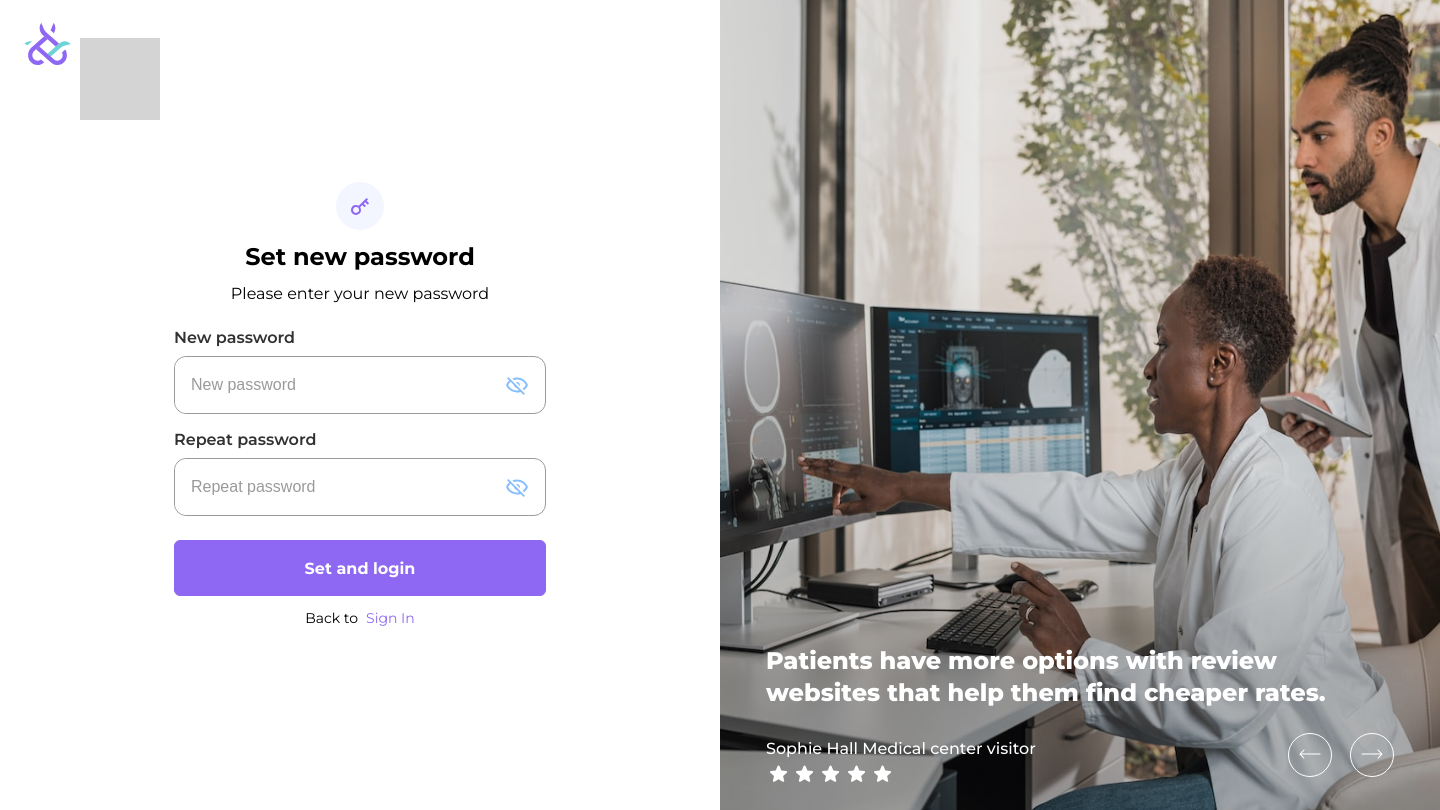
Test: SetNewPasswordPage › doest NOT submit form when password is too short
The image size is (1440, 810).
In the password field with placeholder "New password": (336, 385) [175,357,497,413], type "Aa1!"
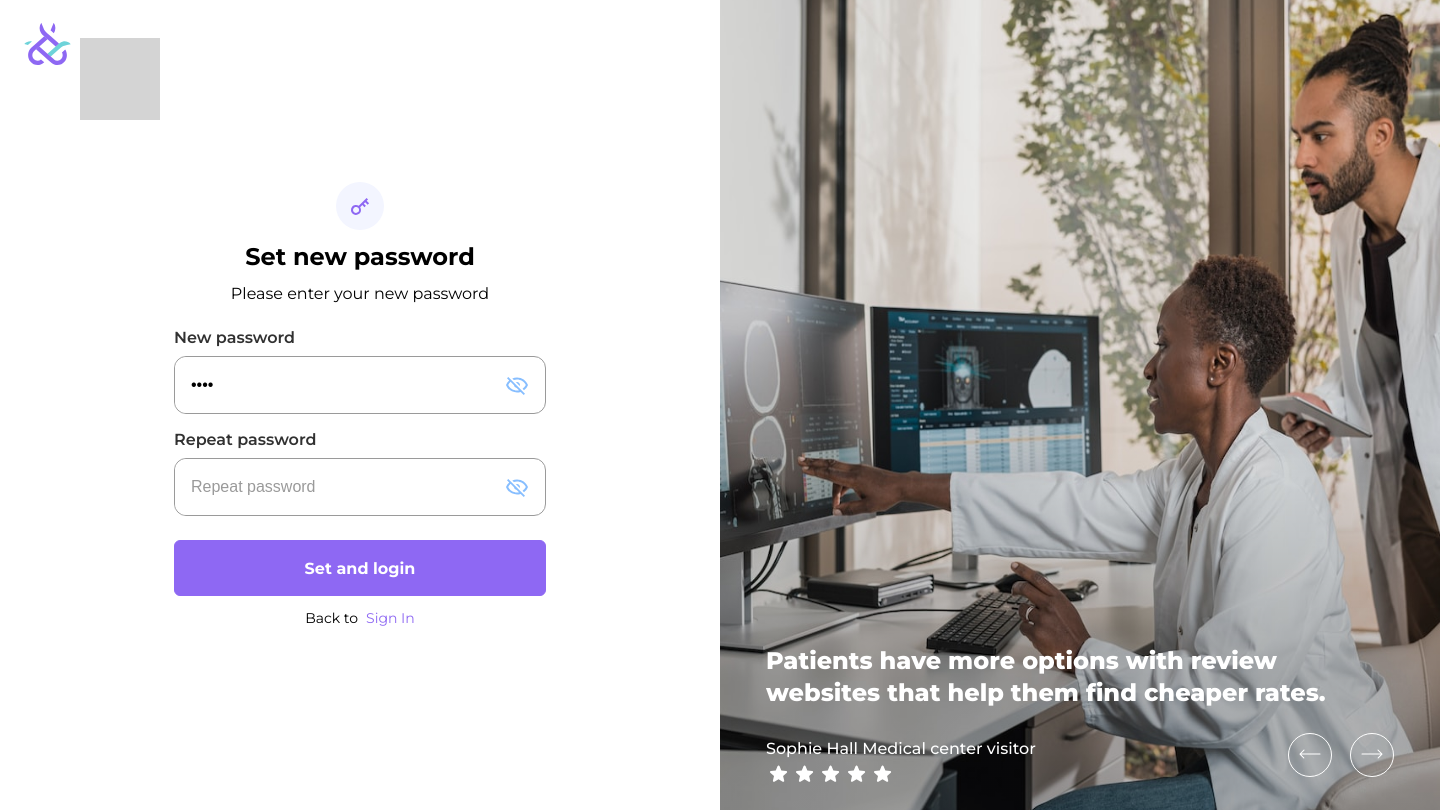
In the password field with placeholder "Repeat password": (336, 487) [175,459,497,515], type "Aa1!"
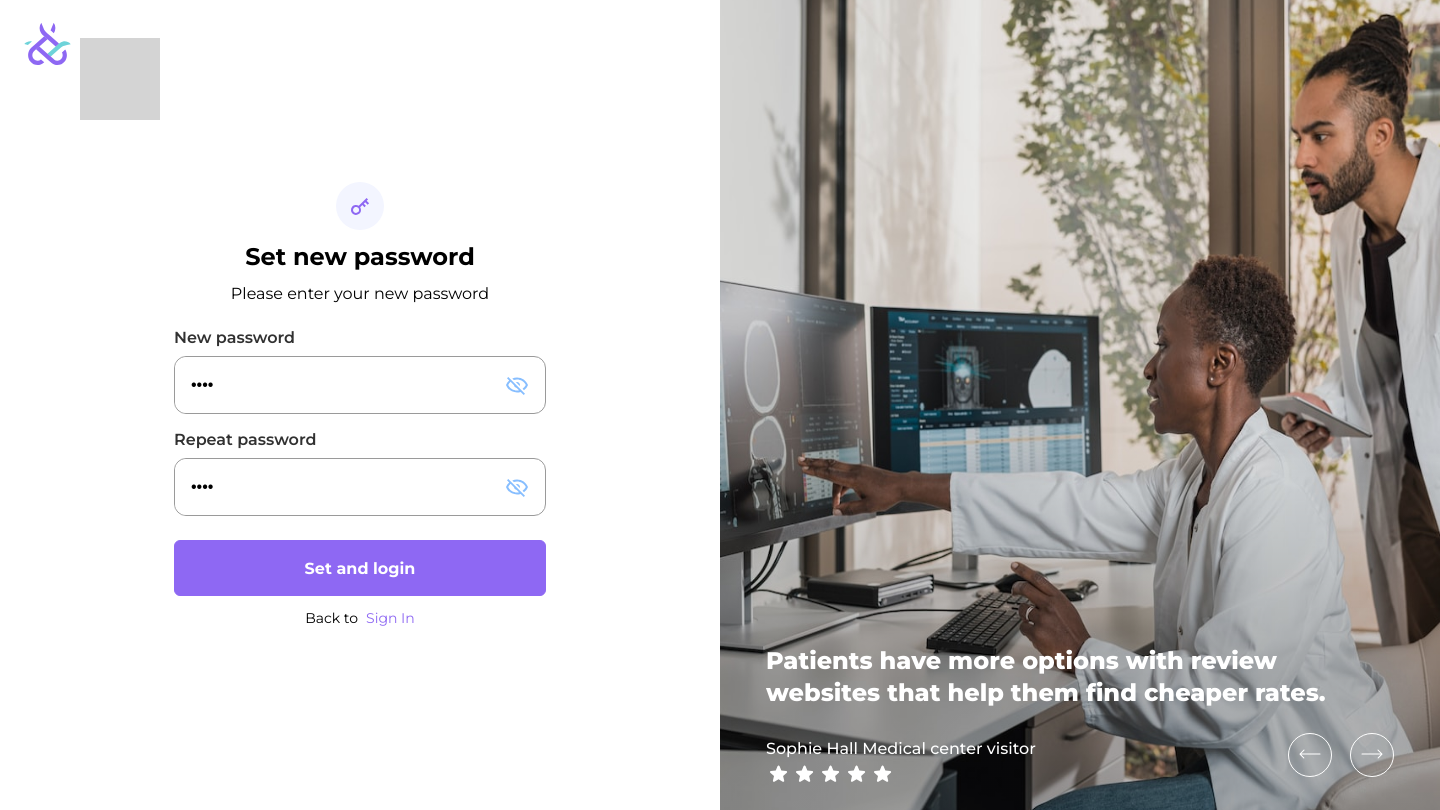
Click the button "Set and login": (360, 568) [174,540,546,596]
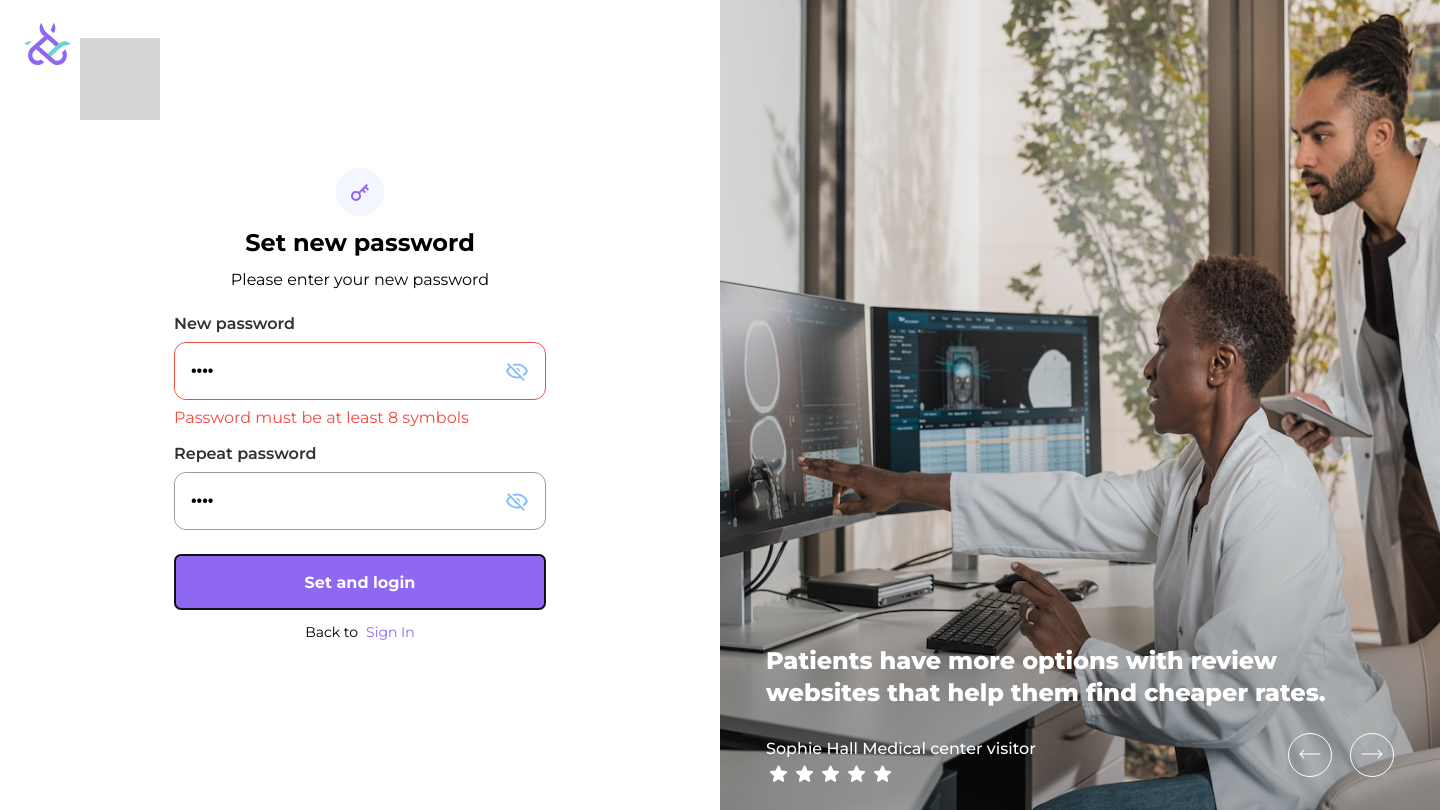
Expected: the text "Password must be at least 8 symbols" is shown, [174,408,469,427]
